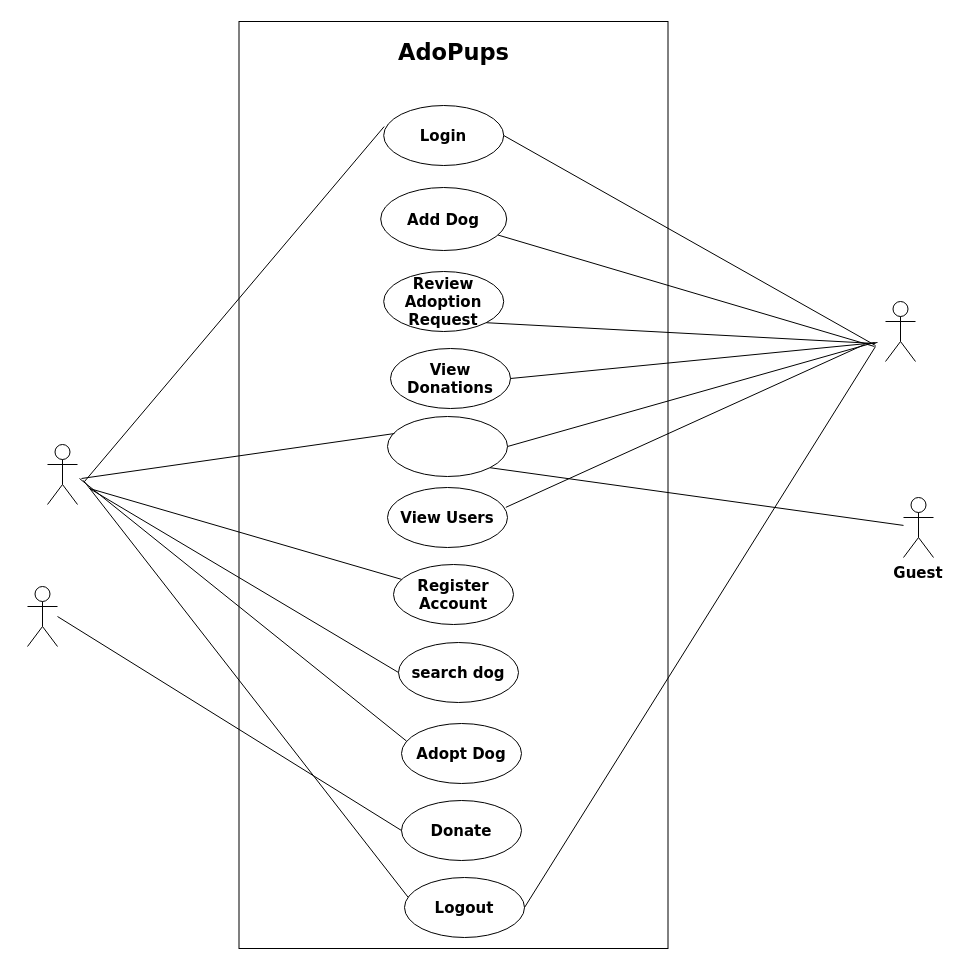
Image size: 961x966. Some labels were removed from this diagram. The centre of each missing label's shape, as x and y in pixels:
"Admin" goes at (900,331).
"Adopter" goes at (62,474).
"Donor" goes at (42,616).
"View Available Dogs" goes at (447,446).
